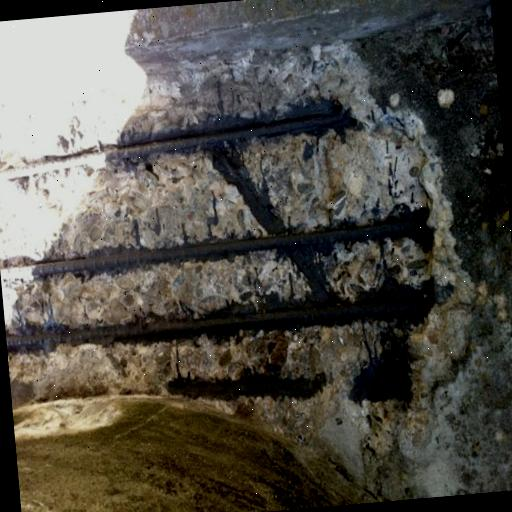spalling: (0, 39, 464, 443)
